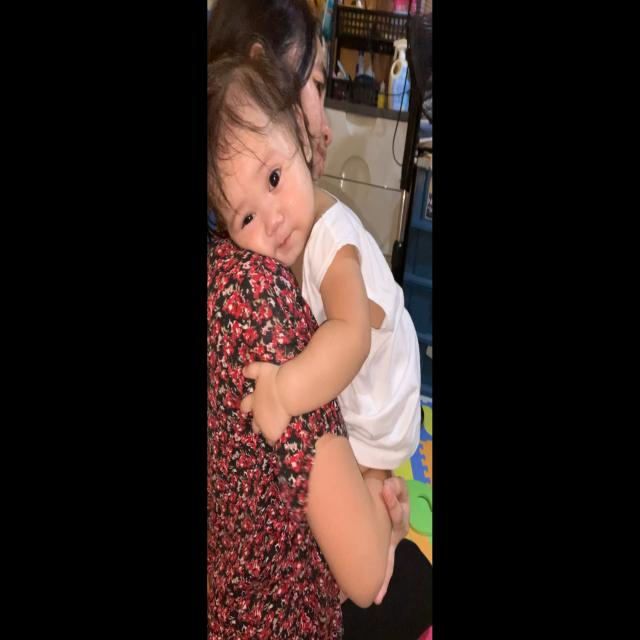adult: (208, 0, 433, 640)
child: (207, 53, 421, 607)
